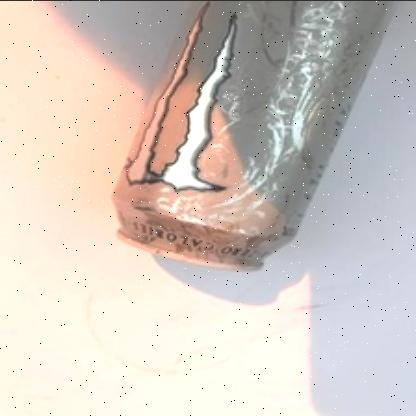Can: (110, 0, 400, 272)
